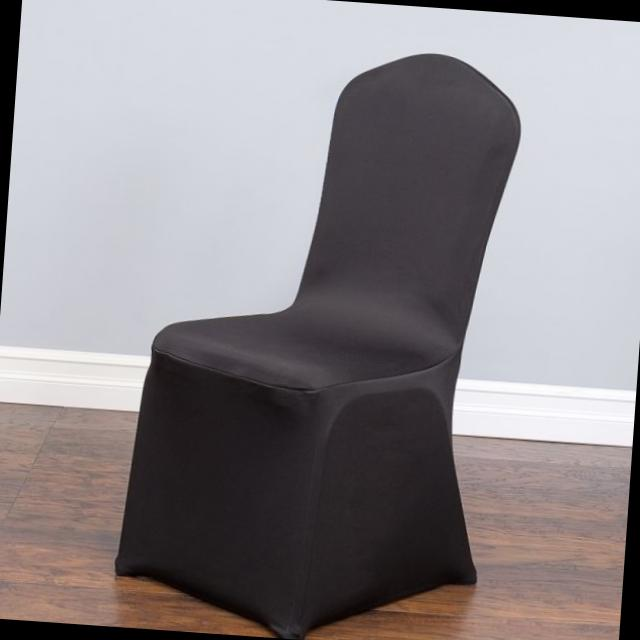Chair: (107, 31, 530, 640)
